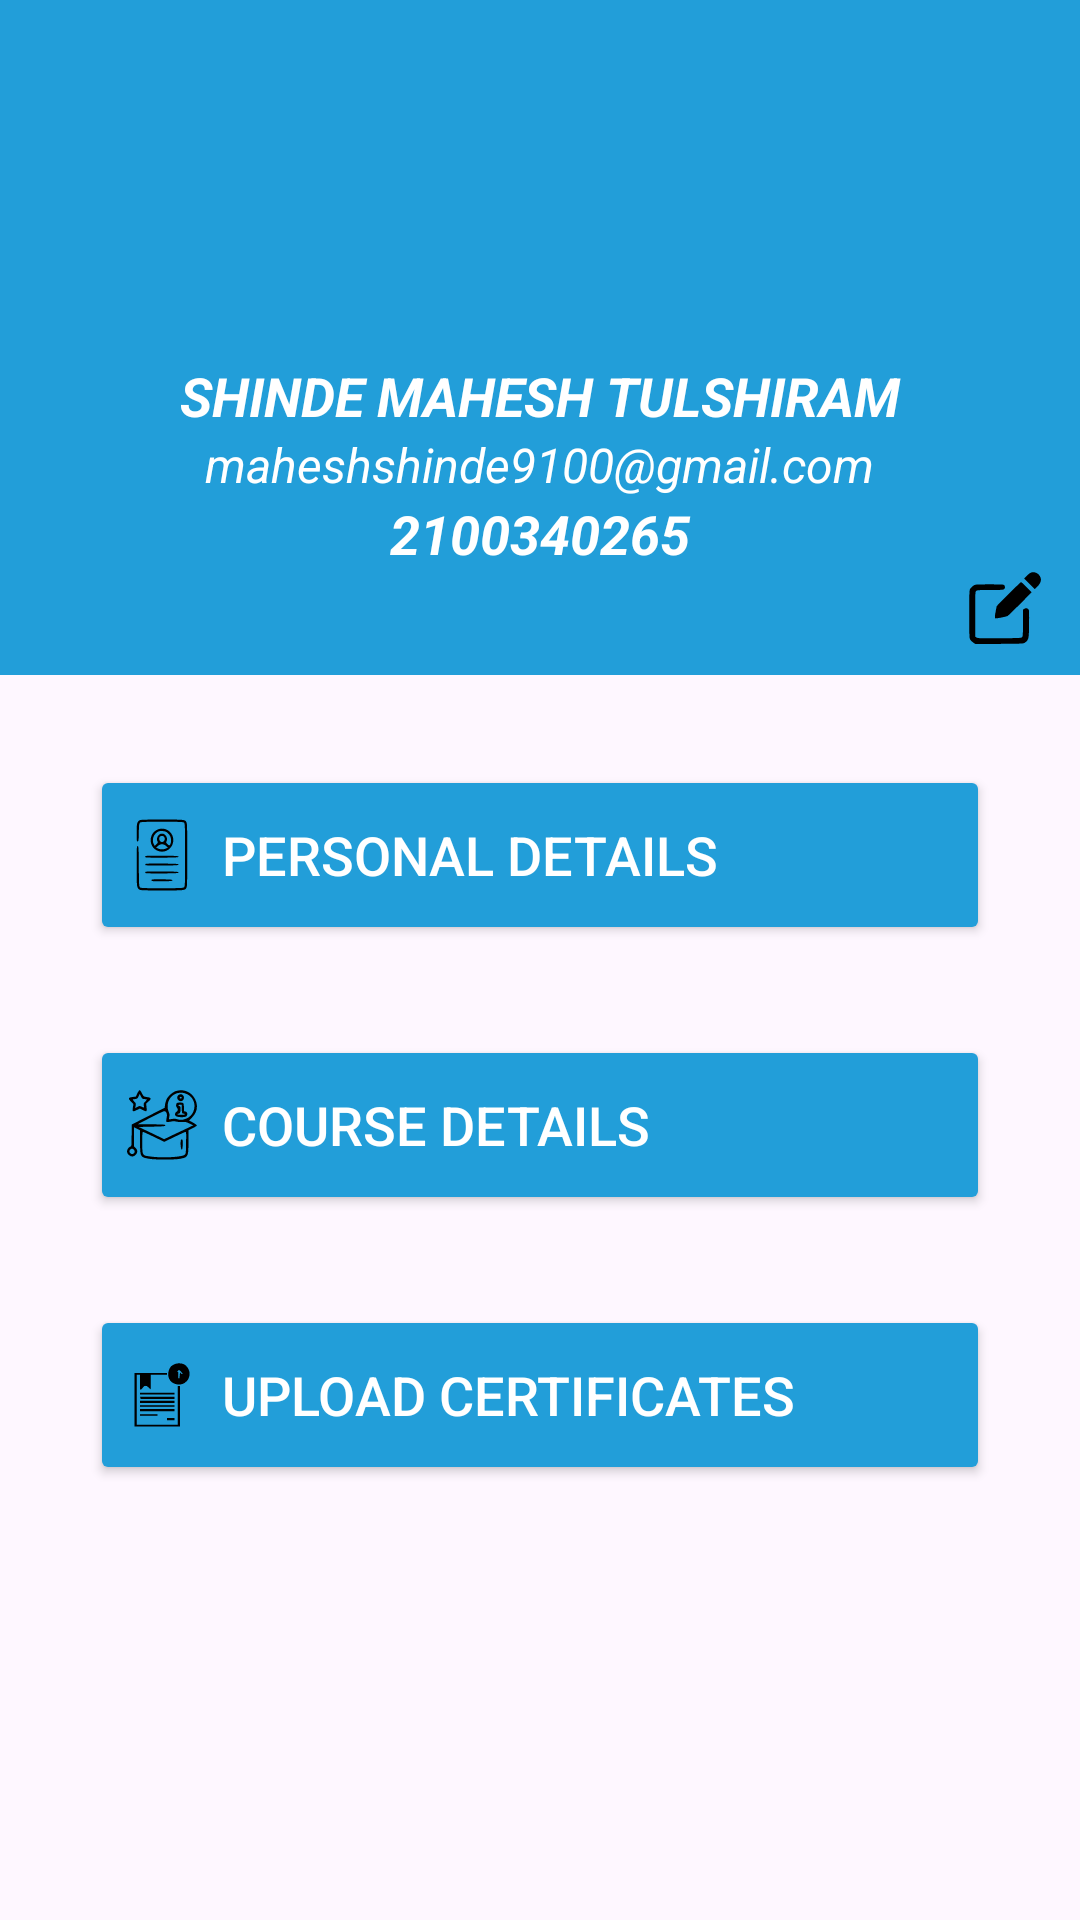

Where icons sit on this 1080w x 1920h app screen, as region(x1, y1, x2, y2):
Edit Profile: region(969, 572, 1041, 644)
